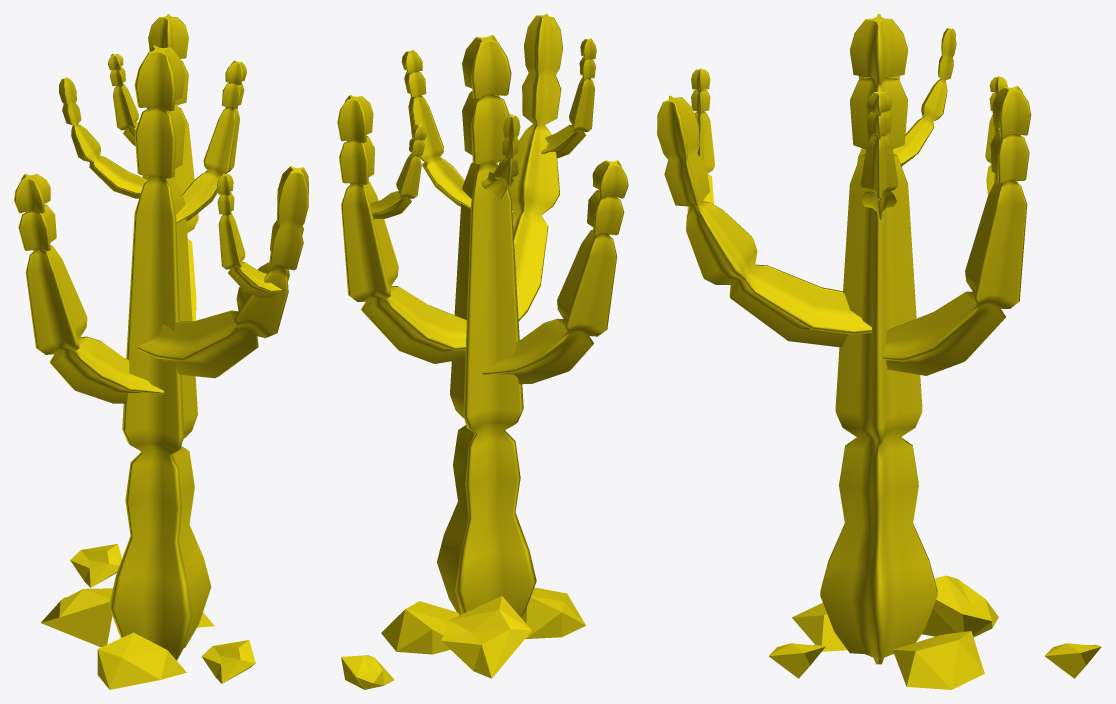
File: Envi_Cactus_Tall_02_v01.fbx
3 renders of one model, left to right at view 1: azimuth 30°, elevation 25°; view 2: azimuth 150°, elevation 25°; view 3: azimuth 270°, elevation 25°, orthographic. The views are drawn at different scales.
Visible parts, largest first — view 1: Truck_Ex_Set03_CactusCenter_01, Truck_Ex_Set03_CactusMid_02, Truck_Ex_Set03_CactusMid_03, Truck_Ex_Set03_CactusTop_03, Truck_Ex_Set03_RockCactus_Small_04, Truck_Ex_Set03_CactusMid_01, Truck_Ex_Set03_RockCactus_Small_03, Truck_Ex_Set03_CactusTop_02, Truck_Ex_Set03_CactusTop_04, Truck_Ex_Set03_RockCactus_Small_05, Truck_Ex_Set03_RockCactus_Small_01, Truck_Ex_Set03_CactusTop_01; view 2: Truck_Ex_Set03_CactusCenter_01, Truck_Ex_Set03_CactusMid_01, Truck_Ex_Set03_CactusMid_02, Truck_Ex_Set03_CactusMid_03, Truck_Ex_Set03_RockCactus_Small_03, Truck_Ex_Set03_CactusTop_03, Truck_Ex_Set03_RockCactus_Small_02, Truck_Ex_Set03_CactusTop_04, Truck_Ex_Set03_RockCactus_Small_04, Truck_Ex_Set03_CactusTop_01, Truck_Ex_Set03_CactusTop_02, Truck_Ex_Set03_RockCactus_Small_01; view 3: Truck_Ex_Set03_CactusCenter_01, Truck_Ex_Set03_CactusMid_01, Truck_Ex_Set03_CactusMid_03, Truck_Ex_Set03_RockCactus_Small_02, Truck_Ex_Set03_CactusTop_03, Truck_Ex_Set03_RockCactus_Small_03, Truck_Ex_Set03_CactusTop_02, Truck_Ex_Set03_CactusTop_04, Truck_Ex_Set03_RockCactus_Small_04, Truck_Ex_Set03_RockCactus_Small_01, Truck_Ex_Set03_RockCactus_Small_05, Truck_Ex_Set03_CactusTop_01.
Boxes of the visible parts, x1,y1,x2,y2 form: Truck_Ex_Set03_CactusCenter_01: (109, 45, 211, 660); Truck_Ex_Set03_CactusMid_02: (14, 173, 163, 403); Truck_Ex_Set03_CactusMid_03: (138, 166, 308, 378); Truck_Ex_Set03_CactusTop_03: (176, 60, 246, 223); Truck_Ex_Set03_RockCactus_Small_04: (97, 632, 186, 689); Truck_Ex_Set03_CactusMid_01: (142, 14, 198, 321); Truck_Ex_Set03_RockCactus_Small_03: (41, 588, 112, 647); Truck_Ex_Set03_CactusTop_02: (59, 77, 147, 198); Truck_Ex_Set03_CactusTop_04: (217, 173, 281, 298); Truck_Ex_Set03_RockCactus_Small_05: (201, 640, 255, 683); Truck_Ex_Set03_RockCactus_Small_01: (70, 544, 121, 587); Truck_Ex_Set03_CactusTop_01: (108, 53, 138, 145); Truck_Ex_Set03_CactusCenter_01: (437, 35, 536, 617); Truck_Ex_Set03_CactusMid_01: (337, 95, 466, 363); Truck_Ex_Set03_CactusMid_02: (482, 160, 628, 384); Truck_Ex_Set03_CactusMid_03: (508, 14, 562, 321); Truck_Ex_Set03_RockCactus_Small_03: (441, 596, 531, 678); Truck_Ex_Set03_CactusTop_03: (401, 50, 471, 208); Truck_Ex_Set03_RockCactus_Small_02: (381, 601, 459, 654); Truck_Ex_Set03_CactusTop_04: (541, 38, 596, 158); Truck_Ex_Set03_RockCactus_Small_04: (521, 587, 585, 638); Truck_Ex_Set03_CactusTop_01: (370, 124, 426, 218); Truck_Ex_Set03_CactusTop_02: (481, 114, 520, 199); Truck_Ex_Set03_RockCactus_Small_01: (341, 655, 394, 689); Truck_Ex_Set03_CactusCenter_01: (820, 14, 937, 664); Truck_Ex_Set03_CactusMid_01: (883, 86, 1031, 375); Truck_Ex_Set03_CactusMid_03: (657, 95, 871, 347); Truck_Ex_Set03_RockCactus_Small_02: (893, 631, 984, 689); Truck_Ex_Set03_CactusTop_03: (860, 89, 898, 219); Truck_Ex_Set03_RockCactus_Small_03: (922, 575, 998, 637); Truck_Ex_Set03_CactusTop_02: (893, 28, 956, 166); Truck_Ex_Set03_CactusTop_04: (687, 68, 714, 212); Truck_Ex_Set03_RockCactus_Small_04: (792, 603, 847, 651); Truck_Ex_Set03_RockCactus_Small_01: (1044, 643, 1101, 678); Truck_Ex_Set03_RockCactus_Small_05: (769, 643, 825, 678); Truck_Ex_Set03_CactusTop_01: (985, 76, 1007, 194).
Bounding box in the file's own units: 10.97 × 27.13 × 17.29.
